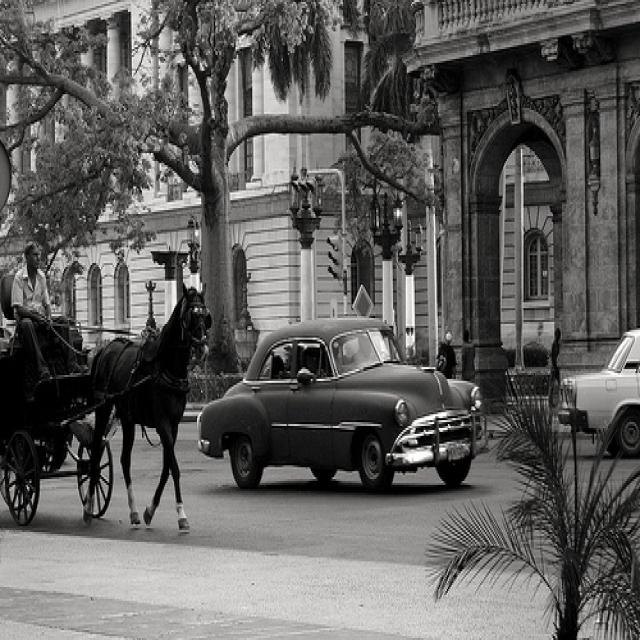Vehicle: (192, 318, 480, 494), (558, 329, 640, 460)
